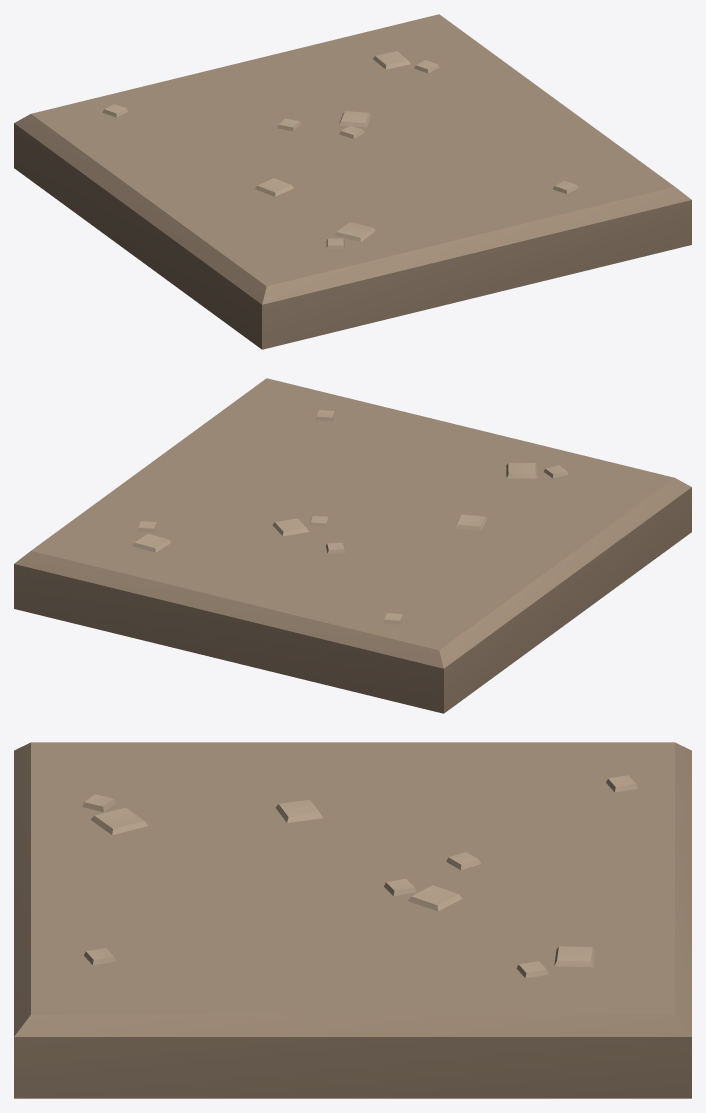
Rendered from floor_dirt.glb.
The picture shows the model from 3 angles, top to bottom: view 1: azimuth 30°, elevation 25°; view 2: azimuth 150°, elevation 25°; view 3: azimuth 270°, elevation 25°; orthographic projection. The views are drawn at different scales.
Visible parts, largest first — view 1: Floor_Dirt; view 2: Floor_Dirt; view 3: Floor_Dirt.
Part boxes in pixels (x1,y1,x2,y2): Floor_Dirt: [14, 14, 691, 349]; Floor_Dirt: [14, 378, 691, 713]; Floor_Dirt: [14, 742, 691, 1098].
Size of the model in its own units: 4 by 0.53 by 4.
1 material, 1 textured.
